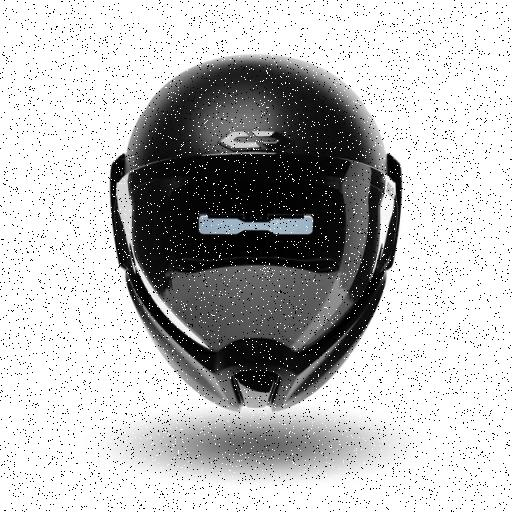Helmet: (74, 46, 436, 440)
